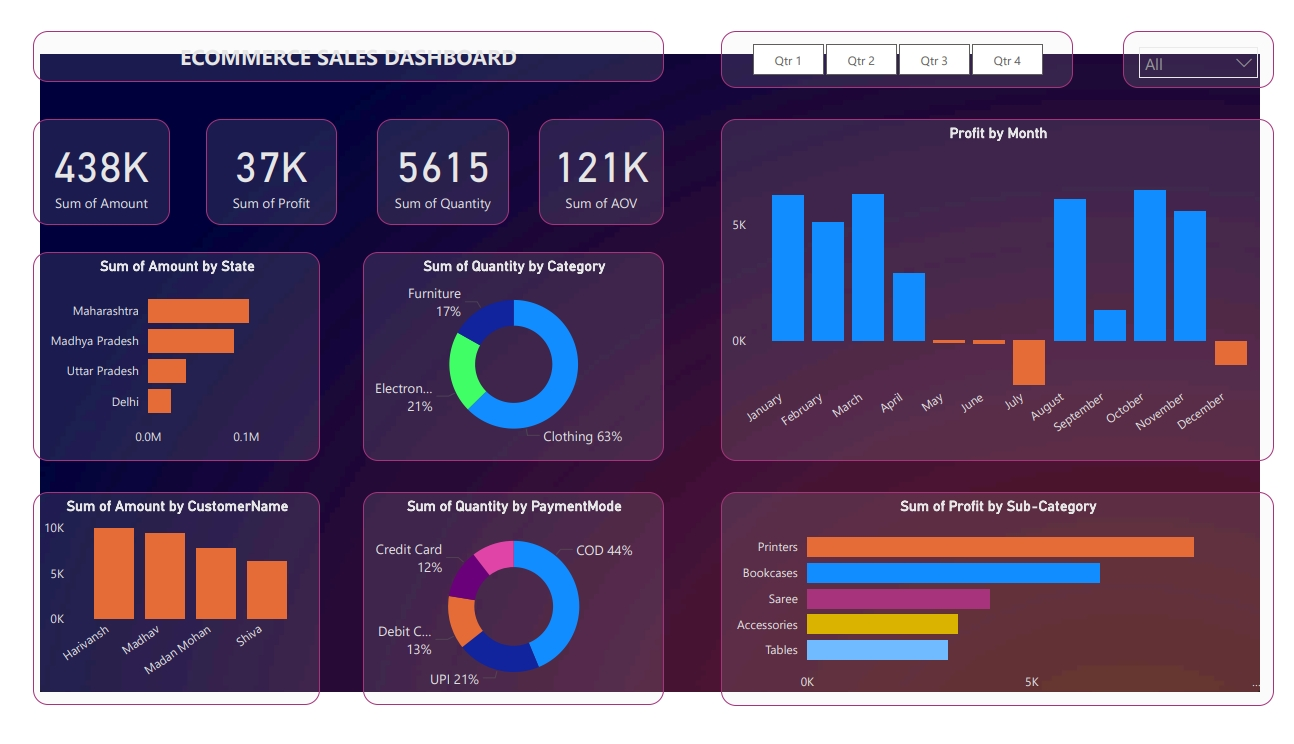

The page's visual inventory and layout, read from the dashboard file:
{"tool":"powerbi","page":{"name":"Page 1","canvas":[1280,720],"ordinal":0},"visuals":[{"type":"textbox","box":[22.9,15.7,631.4,51.4],"z":0},{"type":"columnChart","title":"Profit by Month","fields":{"Y":["Sum(Details.Profit)"],"Category":["Orders.Order Date.Variation.Date Hierarchy.Month"]},"box":[711.4,104.3,552.9,341.4],"z":1000},{"type":"barChart","fields":{"Category":["Details.Sub-Category"],"Y":["Sum(Details.Profit)"]},"box":[711.4,477.1,552.9,214.3],"z":2000},{"type":"donutChart","fields":{"Category":["Details.Category"],"Y":["Sum(Details.Quantity)"]},"box":[352.9,237.1,301.4,208.6],"z":3000},{"type":"donutChart","fields":{"Category":["Details.PaymentMode"],"Y":["Sum(Details.Quantity)"]},"box":[352.9,477.1,301.4,212.9],"z":4000},{"type":"card","fields":{"Values":["Sum(Details.Amount)"]},"box":[22.9,104.3,137.1,105.7],"z":5000},{"type":"card","fields":{"Values":["Sum(Details.Profit)"]},"box":[195.7,104.3,131.4,105.7],"z":6000},{"type":"card","fields":{"Values":["Sum(Details.Quantity)"]},"box":[367.1,104.3,131.4,105.7],"z":7000},{"type":"card","fields":{"Values":["Sum(Details.AOV)"]},"box":[528.6,104.3,125.7,105.7],"z":8000},{"type":"barChart","fields":{"Category":["Orders.State"],"Y":["Sum(Details.Amount)"]},"box":[22.9,237.1,287.1,208.6],"z":9000},{"type":"columnChart","fields":{"Category":["Orders.CustomerName"],"Y":["Sum(Details.Amount)"]},"box":[22.9,477.1,287.1,212.9],"z":10000},{"type":"slicer","fields":{"Values":["Orders.Order Date.Variation.Date Hierarchy.Quarter"]},"box":[711.4,15.7,351.4,57.1],"z":11000},{"type":"slicer","fields":{"Values":["Orders.State"]},"box":[1112.9,15.7,151.4,57.1],"z":12000}]}

Visuals, with their boxes in screenshot pixels (x1, y1, x2, y2), scaled from the page's 1280x720 canvas onto the 1294x744 screenshot:
textbox: x1=23, y1=16, x2=661, y2=69
"Profit by Month" columnChart: x1=719, y1=108, x2=1278, y2=461
barChart - Details.Sub-Category x Sum(Details.Profit): x1=719, y1=493, x2=1278, y2=714
donutChart - Details.Category x Sum(Details.Quantity): x1=357, y1=245, x2=661, y2=461
donutChart - Details.PaymentMode x Sum(Details.Quantity): x1=357, y1=493, x2=661, y2=713
card - Sum(Details.Amount): x1=23, y1=108, x2=162, y2=217
card - Sum(Details.Profit): x1=198, y1=108, x2=331, y2=217
card - Sum(Details.Quantity): x1=371, y1=108, x2=504, y2=217
card - Sum(Details.AOV): x1=534, y1=108, x2=661, y2=217
barChart - Orders.State x Sum(Details.Amount): x1=23, y1=245, x2=313, y2=461
columnChart - Orders.CustomerName x Sum(Details.Amount): x1=23, y1=493, x2=313, y2=713
slicer - Orders.Order Date.Variation.Date Hierarchy.Quarter: x1=719, y1=16, x2=1074, y2=75
slicer - Orders.State: x1=1125, y1=16, x2=1278, y2=75
